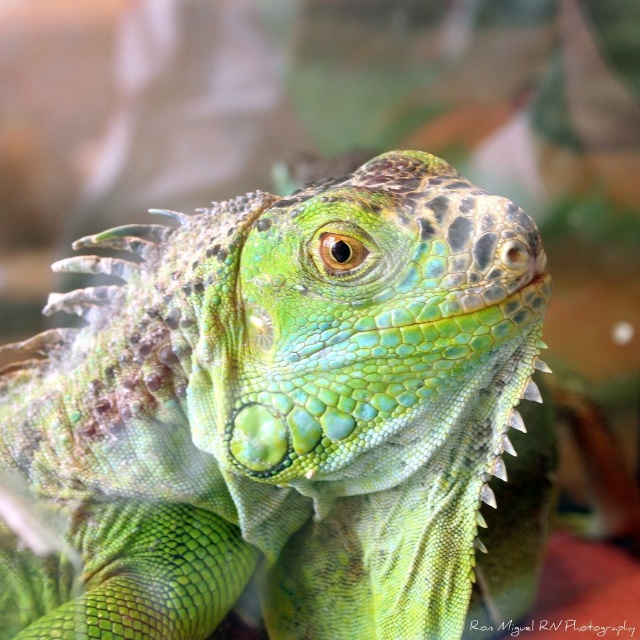Lizard: (0, 150, 554, 640)
